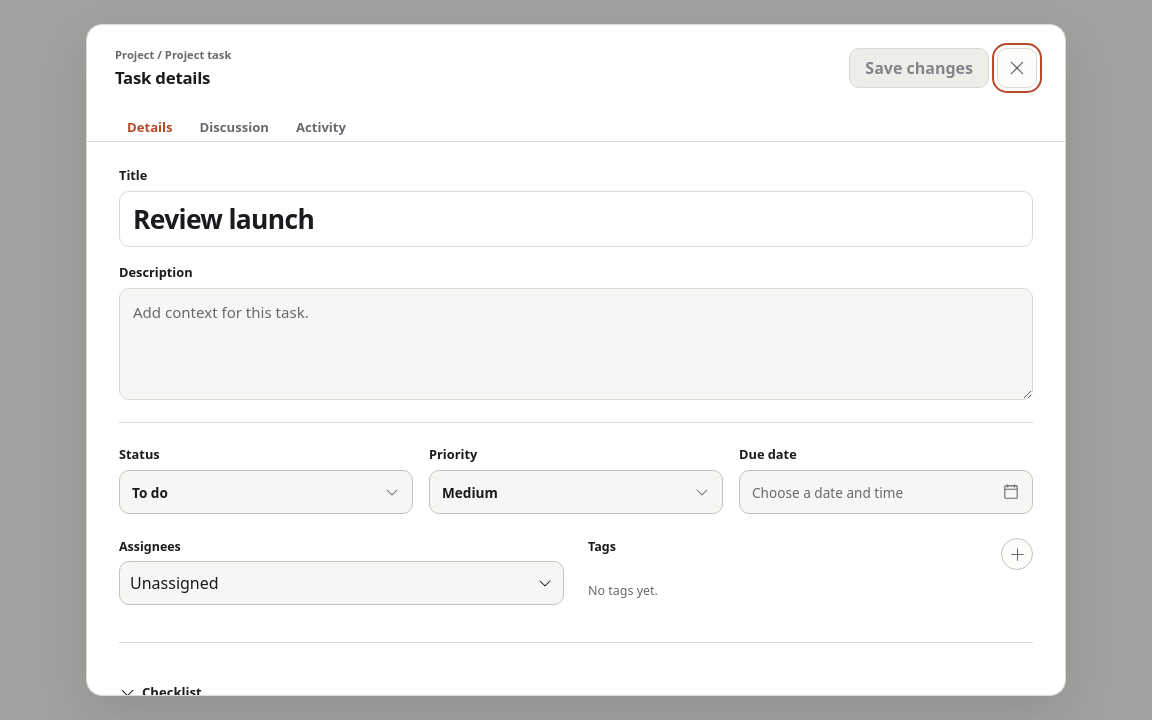
Scenario: allows an editable project task to create and select a shared tag
The width and height of the screenshot is (1152, 720).
Click the button named "Create tag" at (1017,554), box [1001, 538, 1033, 570]
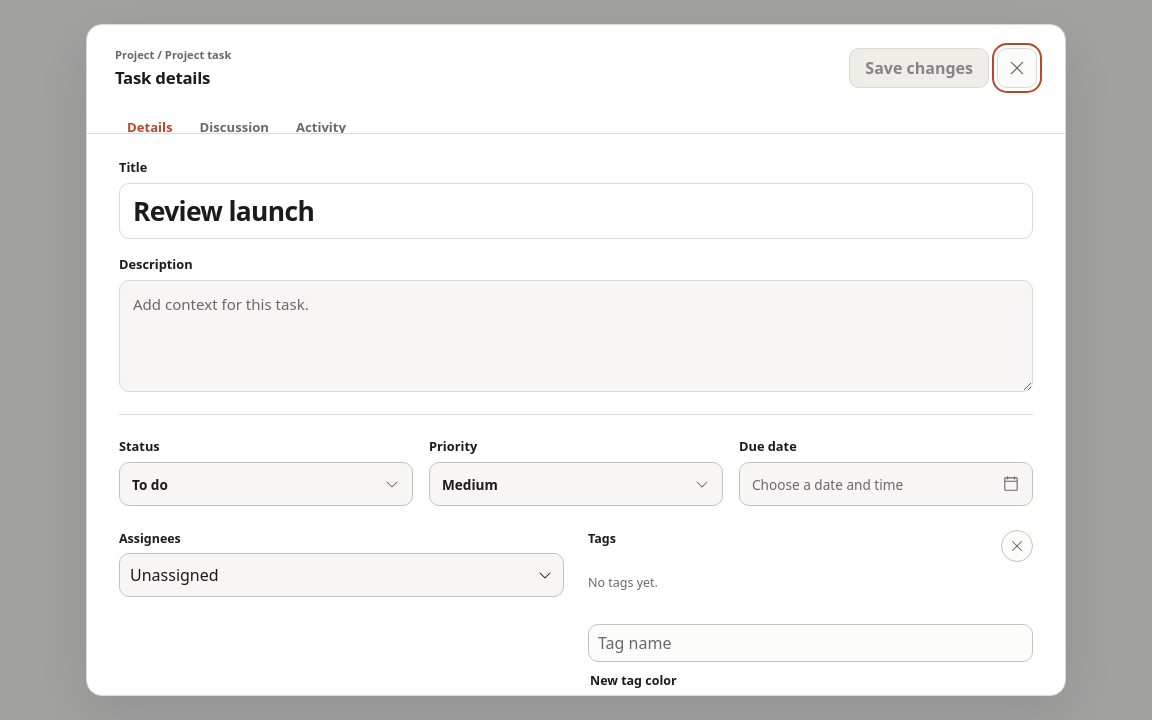
Type "Planning" into the field named "New tag name" at (810,643), box [588, 624, 1033, 662]
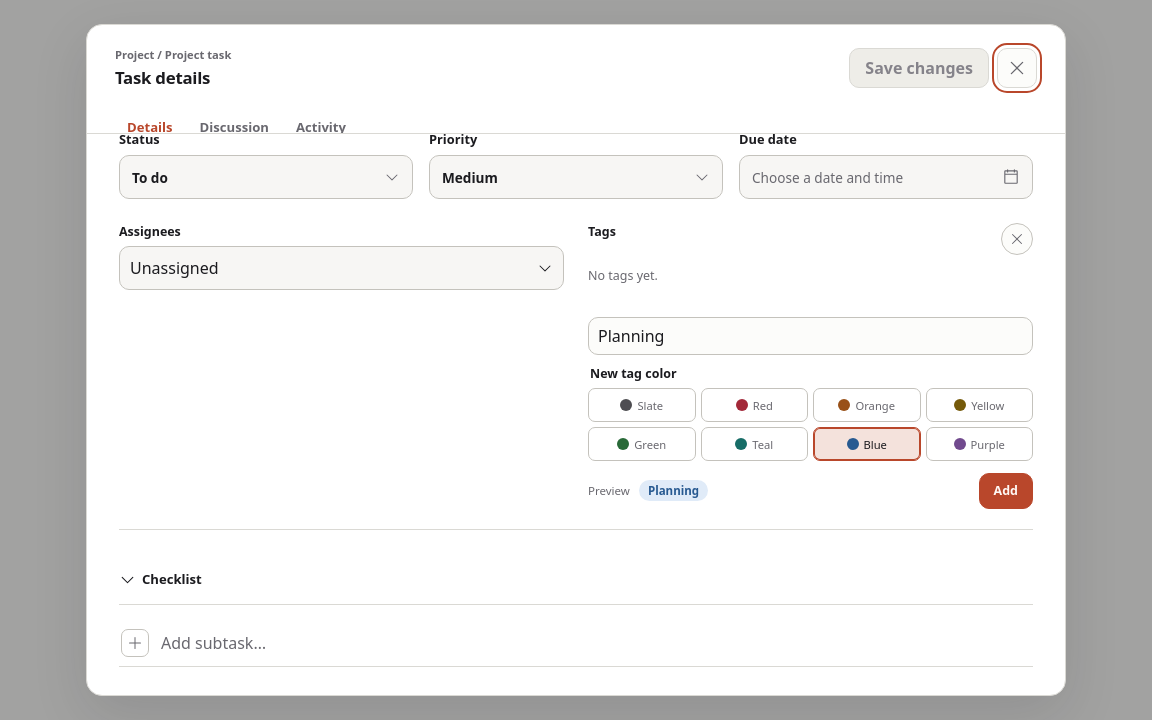
Click the button "Add" at (1006,491), box [979, 473, 1033, 509]
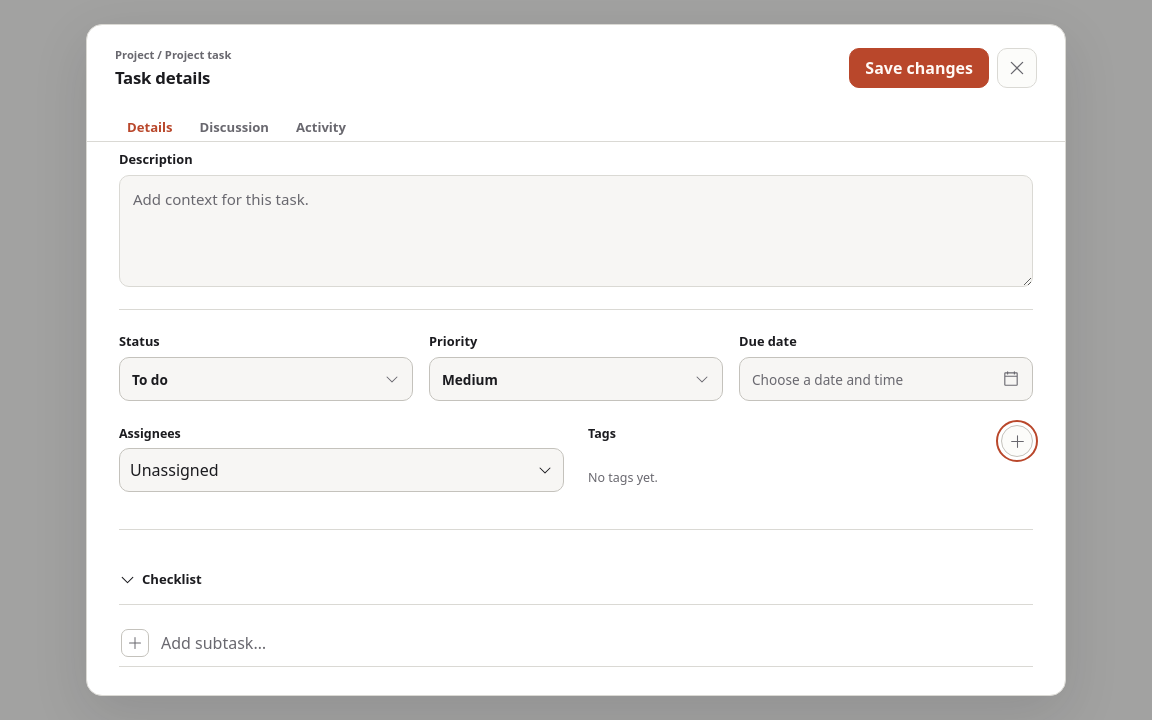
Expected: the button "Save changes" is enabled, [849, 48, 989, 88]
